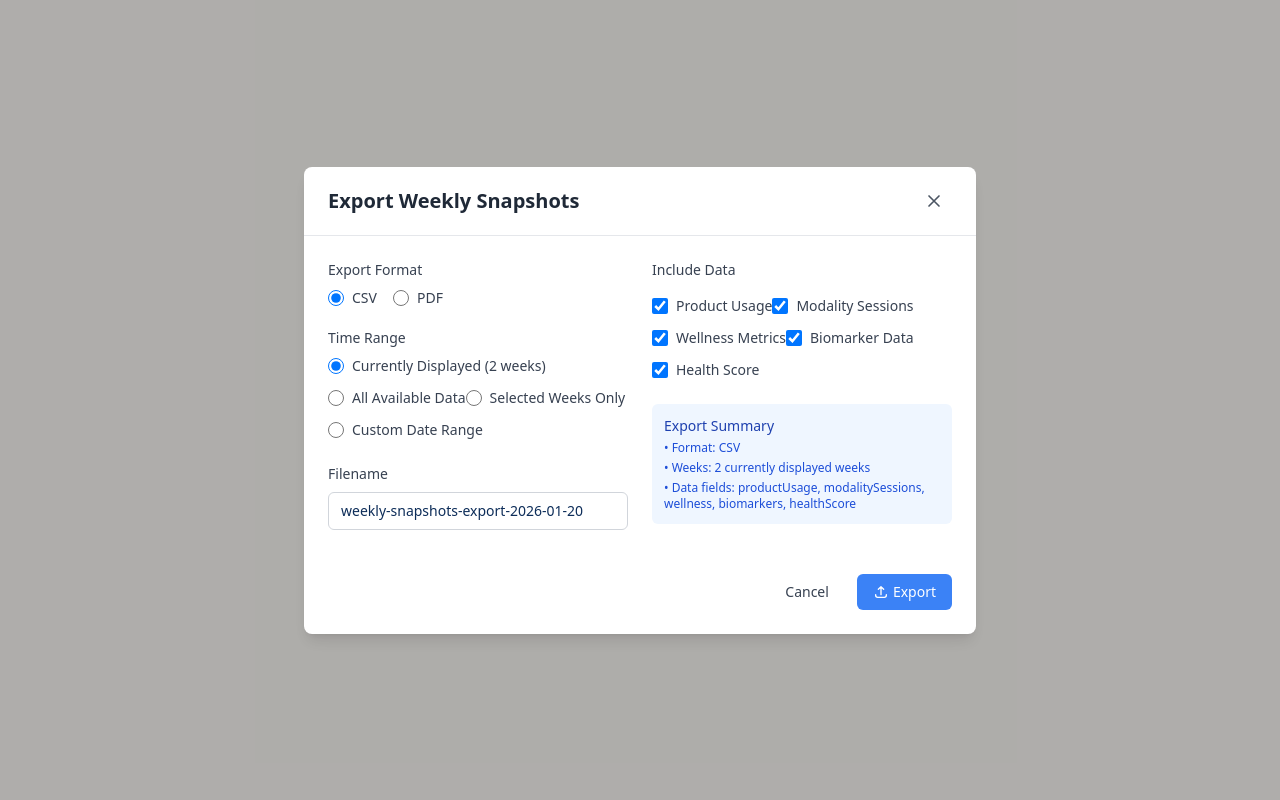
it: Weekly Snapshots Feature › ExportPanel Component › updates options when user changes selections
Note: Change format to PDF
Click the radio button labelled "PDF". click: (401, 298)
box: [393,290,409,306]
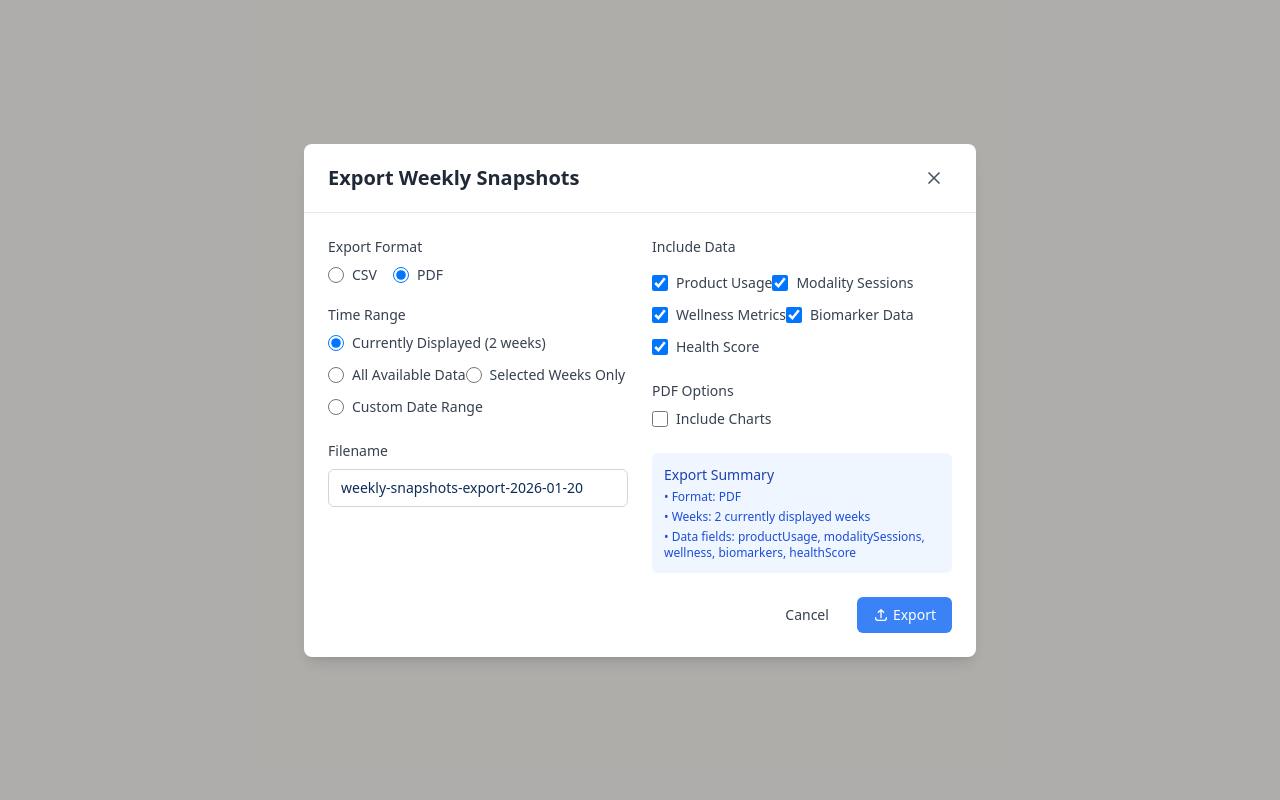
expect the text "Include Charts" is shown: met, box [676,408,771,428]
